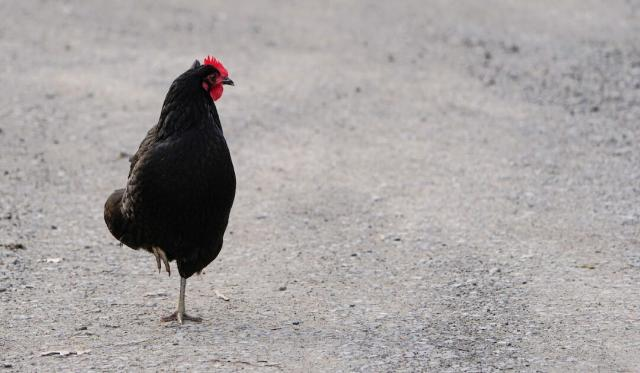Chicken: (104, 55, 239, 324)
